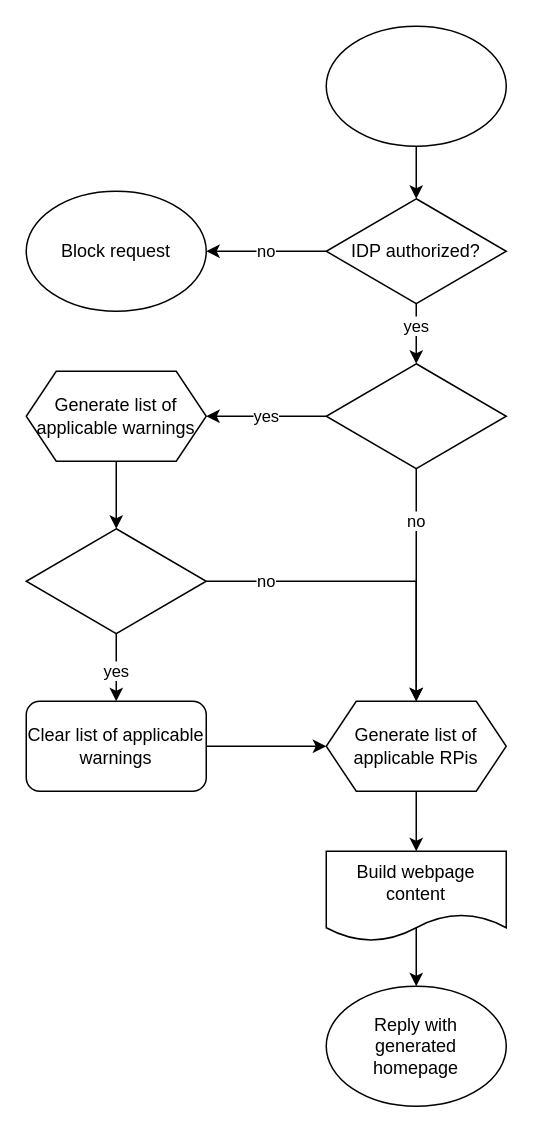
Some shapes in this 533 by 1133 pixel diagram are drawn without their labels. The centre of each missing label's shape, as x and y in pixels:
"has new hardware warning?" goes at (415,415).
"is student?" goes at (115,580).
"Request to get homepage" goes at (415,85).
